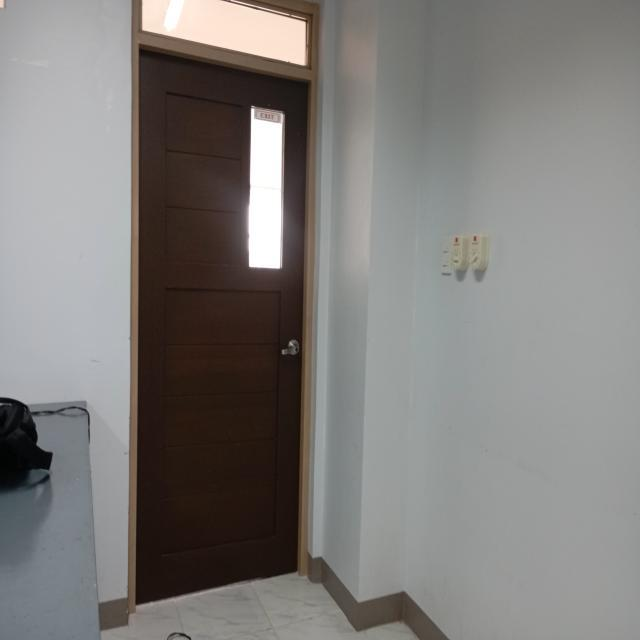door: (121, 0, 328, 621)
